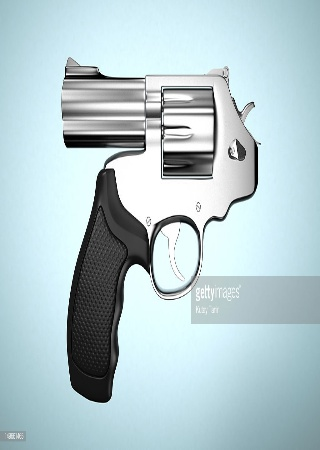handgun: (53, 49, 262, 403)
